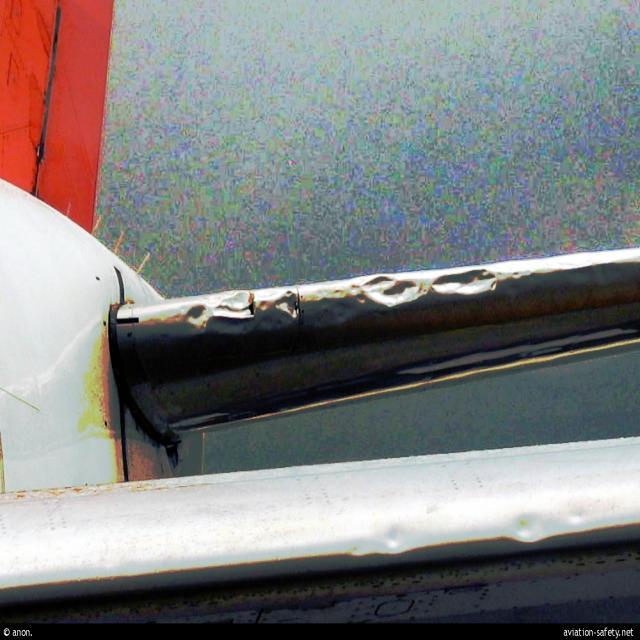dent: (185, 285, 261, 338), (427, 261, 509, 302), (360, 271, 429, 314), (355, 516, 416, 564), (499, 507, 549, 557), (276, 287, 308, 322)
